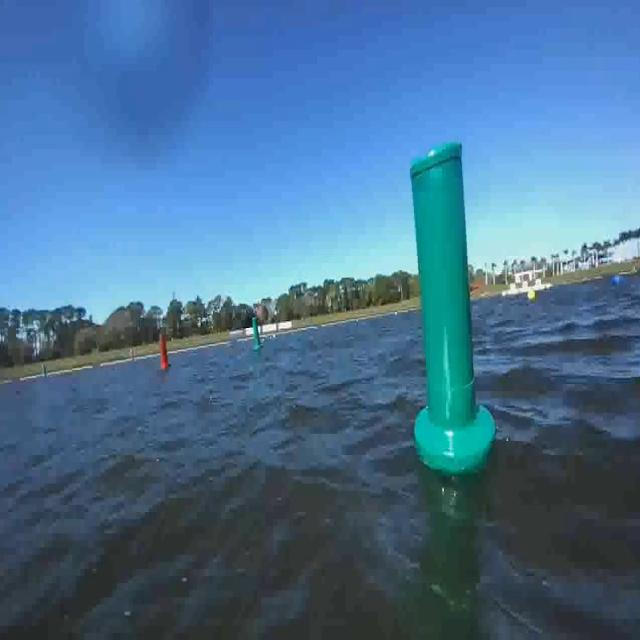green-column-buoy: (396, 152, 489, 492), (249, 312, 268, 356)
red-column-buoy: (155, 332, 172, 376)
